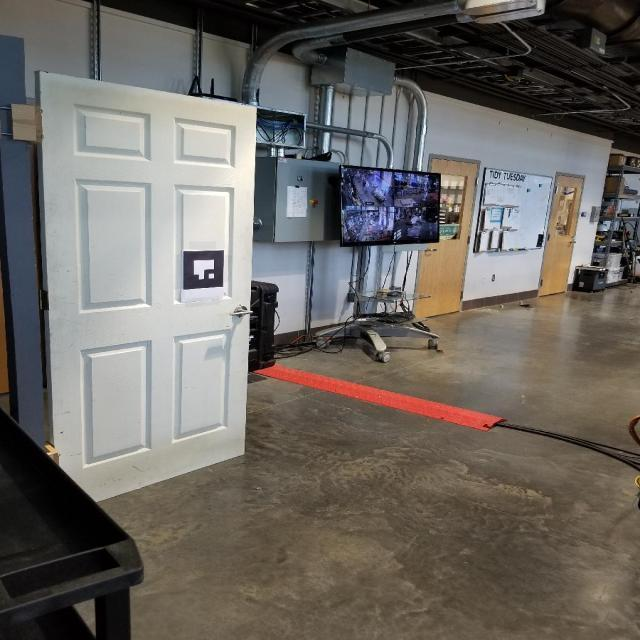door: (32, 68, 258, 506), (228, 302, 255, 321)
